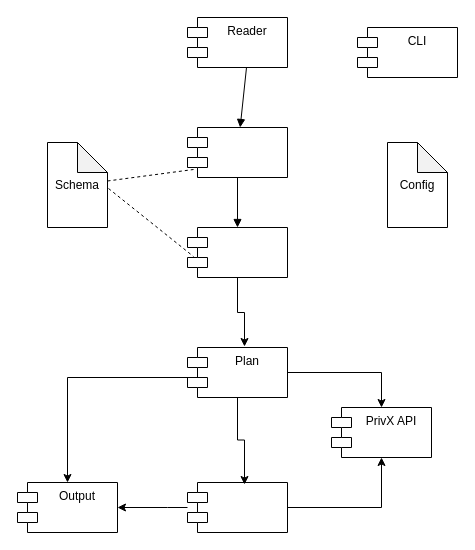
This 475x550 diagram has some shape labels left out. The centre of each missing label's shape, as x and y in pixels:
Apply: the point at 237,507
Normalize: the point at 237,152
Validate: the point at 237,252
